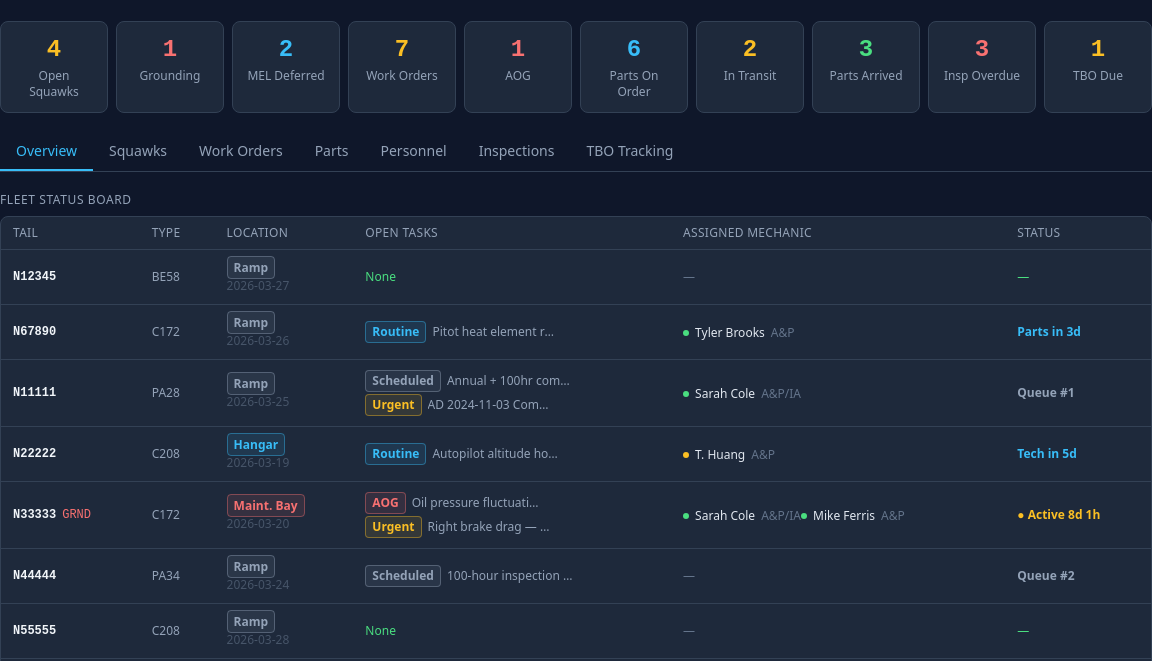
it: <Maintenance /> Work Orders — personnel and certificates › shows certificate number on work order cards
Click the tab "Work Orders": point(241, 152) [183, 133, 299, 171]
(page scrolled)
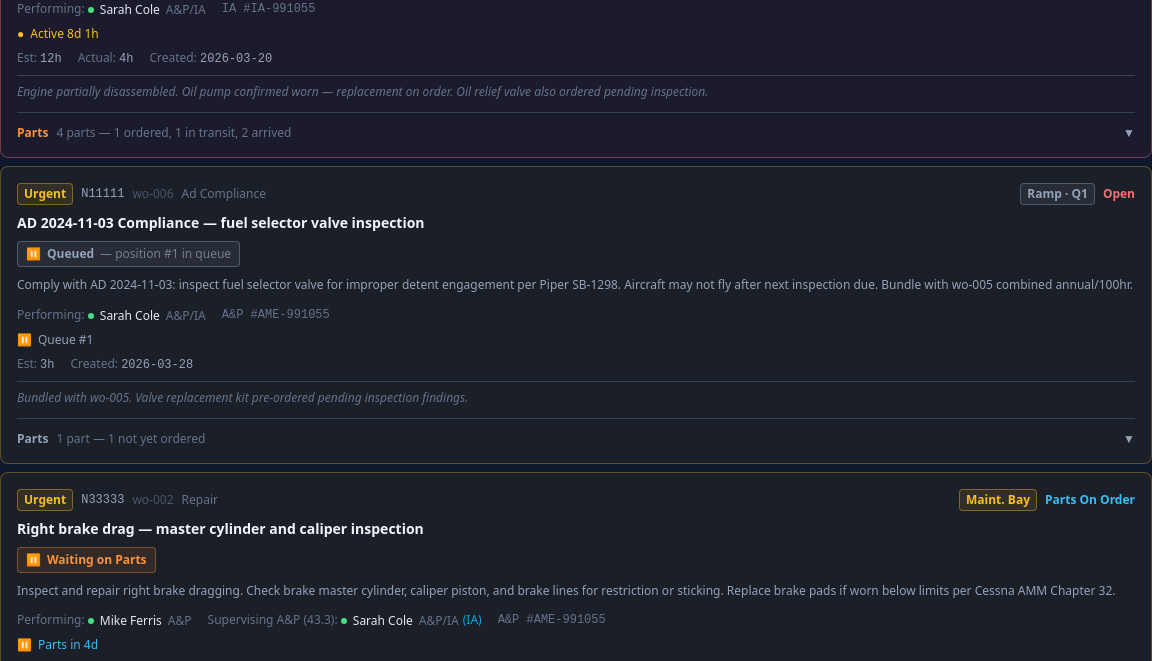
Now the text "A&P #AME-991055" below "wo-006" is shown, box [258, 308, 330, 322]
